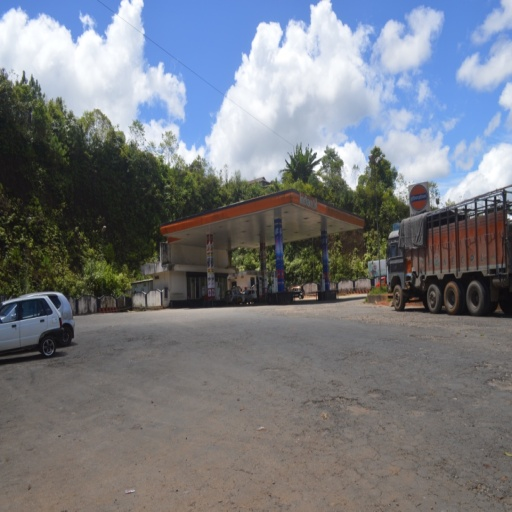roof: (159, 189, 363, 248)
